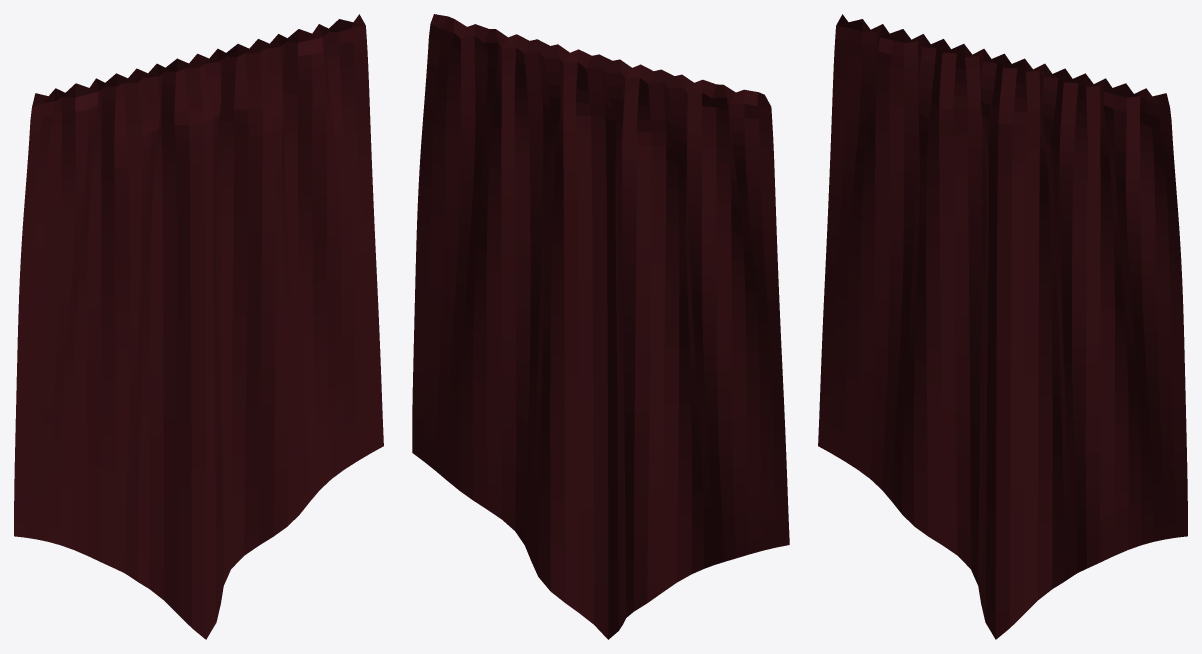
The model's file is Swag .fbx.
The picture shows the model from 3 angles, left to right: view 1: azimuth 30°, elevation 25°; view 2: azimuth 150°, elevation 25°; view 3: azimuth 330°, elevation 25°; orthographic projection. The views are drawn at different scales.
Visible parts, largest first — view 1: Plane; view 2: Plane; view 3: Plane.
Part boxes in pixels (x1,y1,x2,y2): Plane: (14,14,383,639); Plane: (412,14,789,639); Plane: (818,14,1187,639).
Bounding box in the file's own units: 184 × 275 × 13.62.
